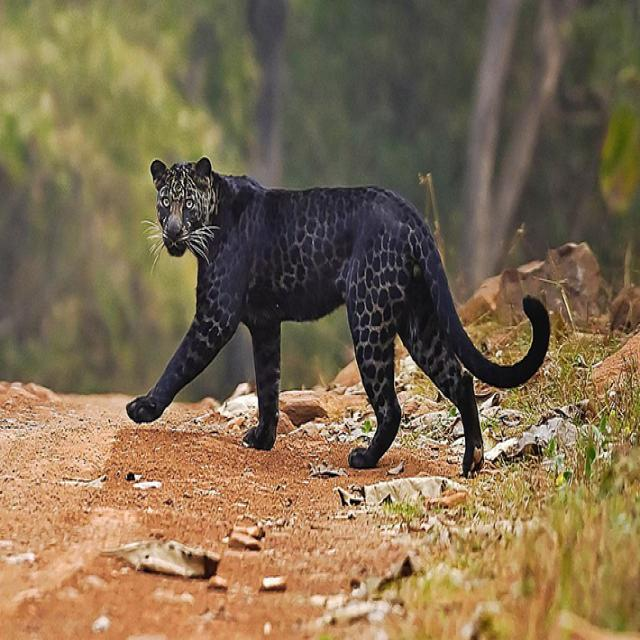Leopard: (124, 156, 554, 476)
